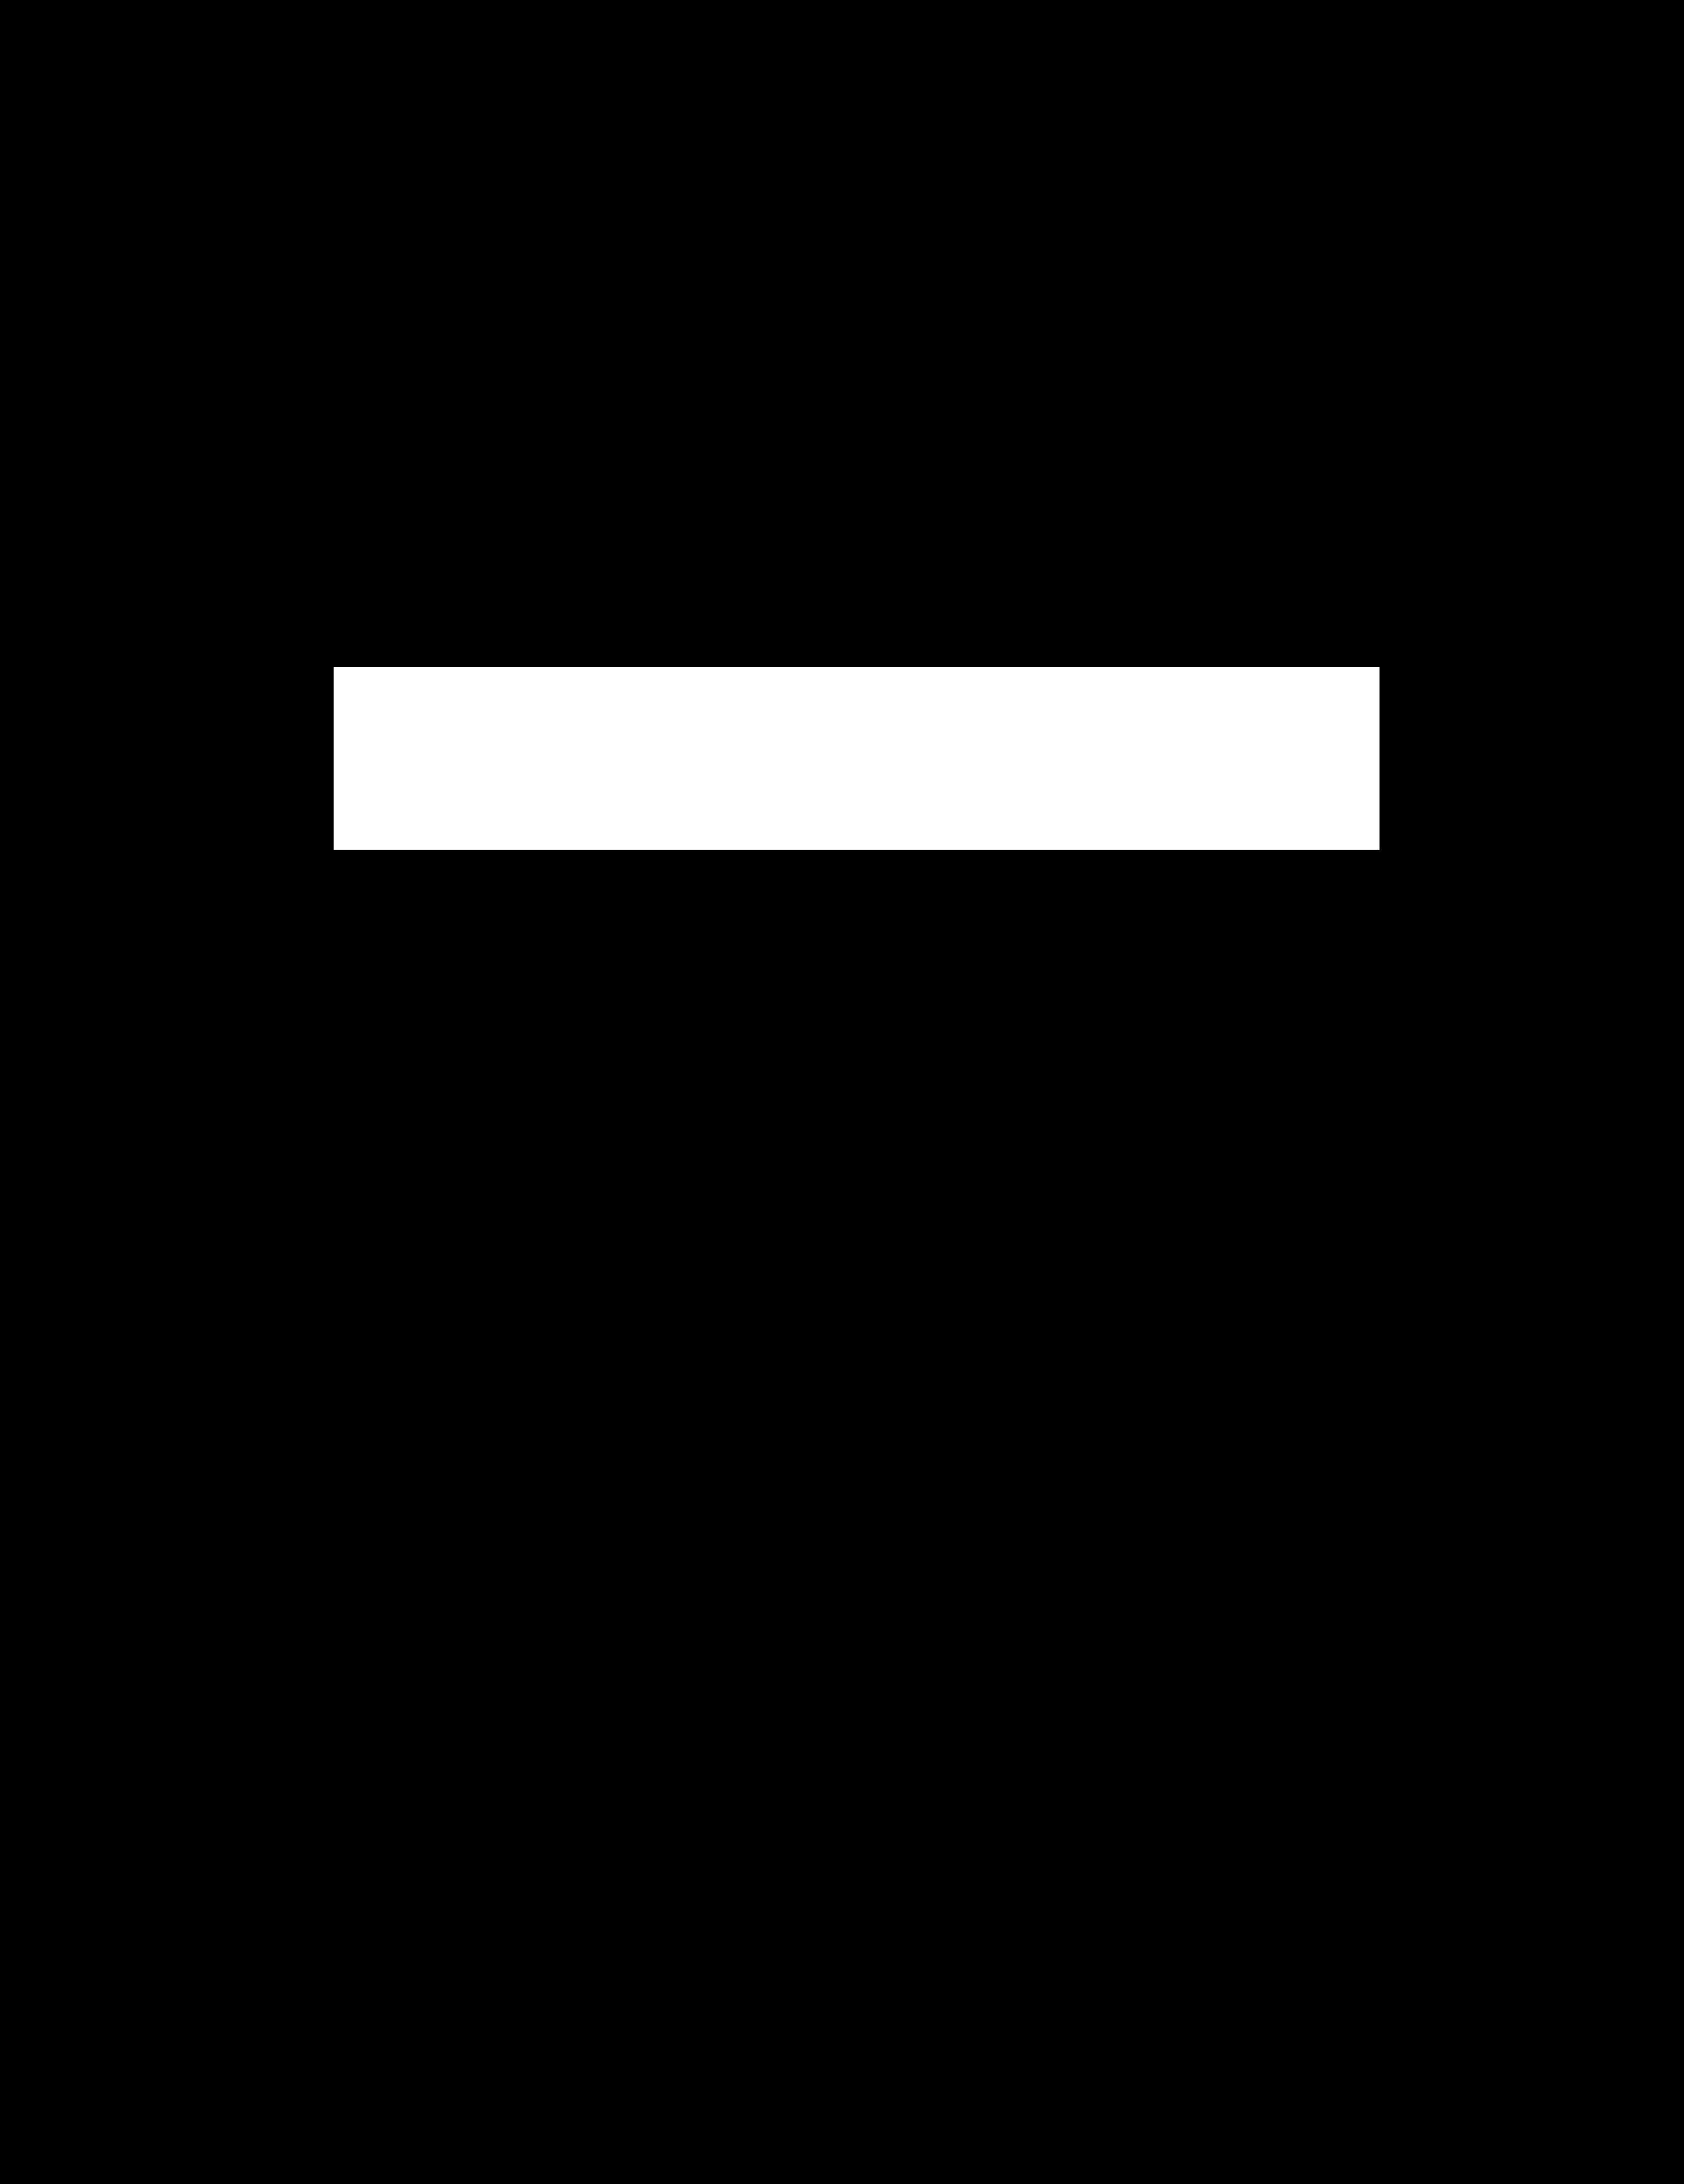table: (334, 667, 1378, 849)
